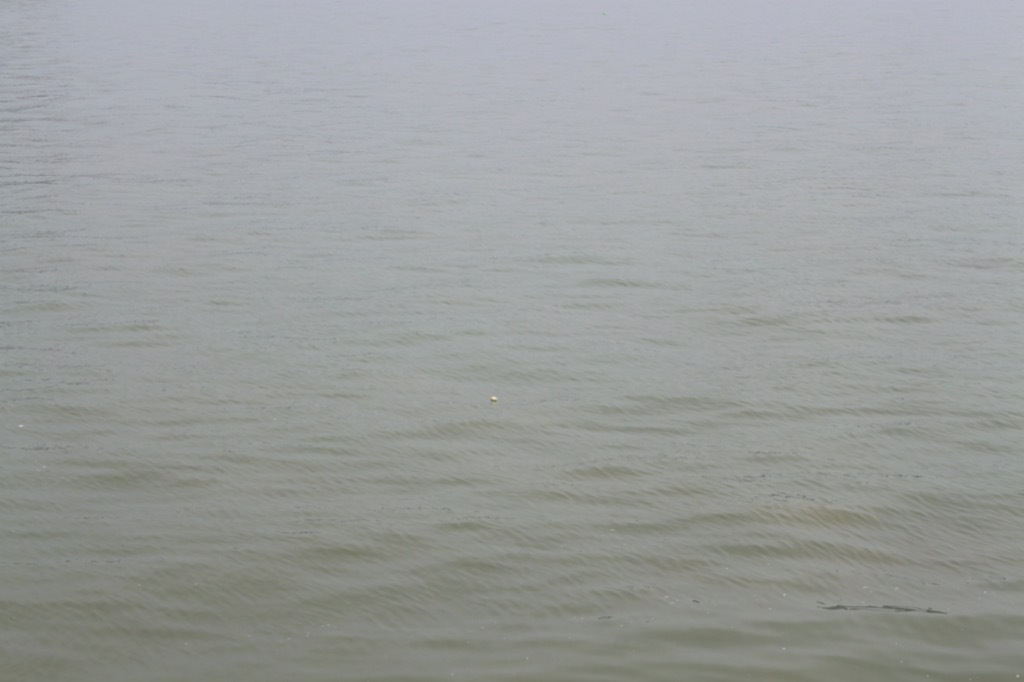plastic: (484, 392, 504, 412)
